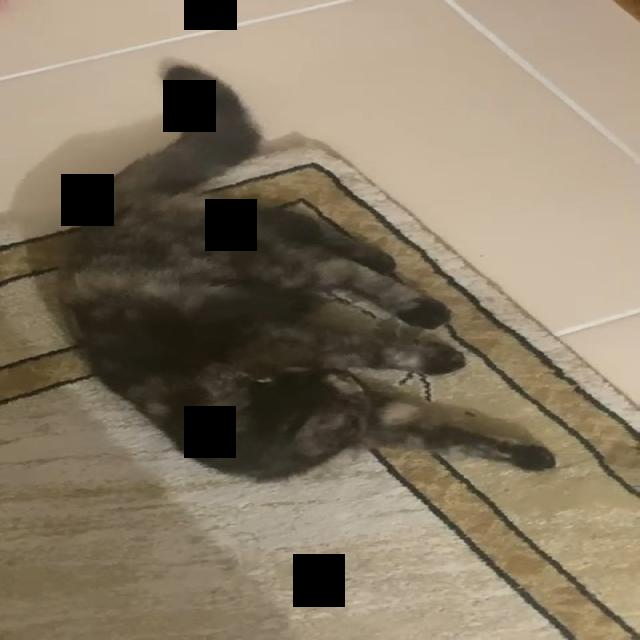authorized: (56, 59, 556, 483)
